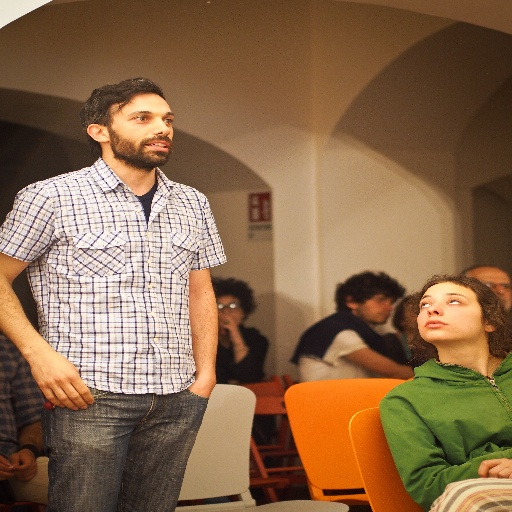hand: (17, 323, 89, 425), (6, 449, 39, 486), (476, 456, 511, 480), (217, 313, 241, 344), (188, 375, 216, 398), (0, 455, 16, 482)
